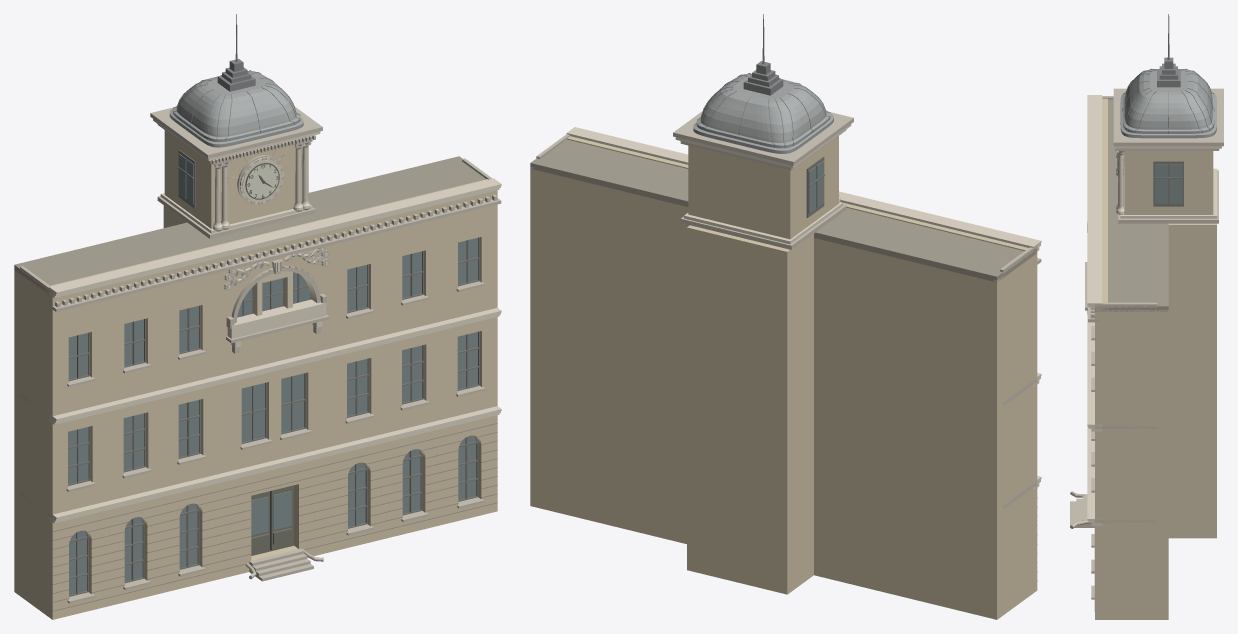
The model's file is huangpu-nanshi-telephone-exchange-raw.glb.
The picture shows the model from 3 angles, left to right: view 1: azimuth 30°, elevation 25°; view 2: azimuth 150°, elevation 25°; view 3: azimuth 270°, elevation 25°; orthographic projection. The views are drawn at different scales.
Visible parts, largest first — view 1: 上海电话局南市总局中华路钟楼立面; view 2: 上海电话局南市总局中华路钟楼立面; view 3: 上海电话局南市总局中华路钟楼立面.
Boxes of the visible parts, x1,y1,x2,y2 form: 上海电话局南市总局中华路钟楼立面: [14, 14, 501, 619]; 上海电话局南市总局中华路钟楼立面: [530, 14, 1041, 619]; 上海电话局南市总局中华路钟楼立面: [1070, 14, 1223, 619].
Size of the model in its own units: 22.12 by 24.86 by 6.9.
